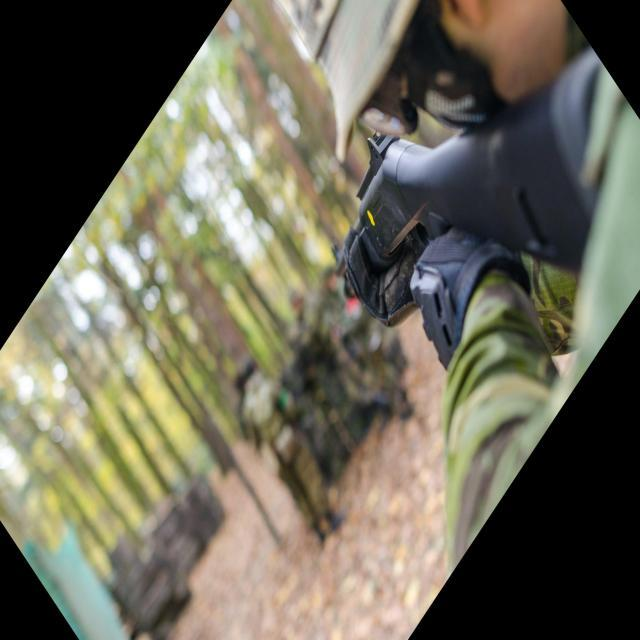weapon: (341, 46, 608, 300)
